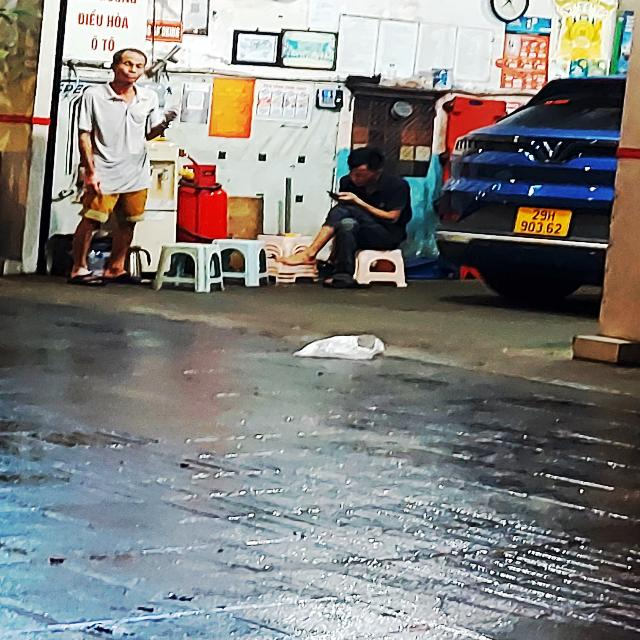license_plate: (512, 208, 576, 239)
